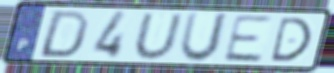4: (89, 9, 129, 63)
D: (35, 9, 92, 60), (267, 16, 314, 64)
E: (220, 13, 274, 64)
U: (177, 10, 232, 65), (132, 12, 185, 61)
